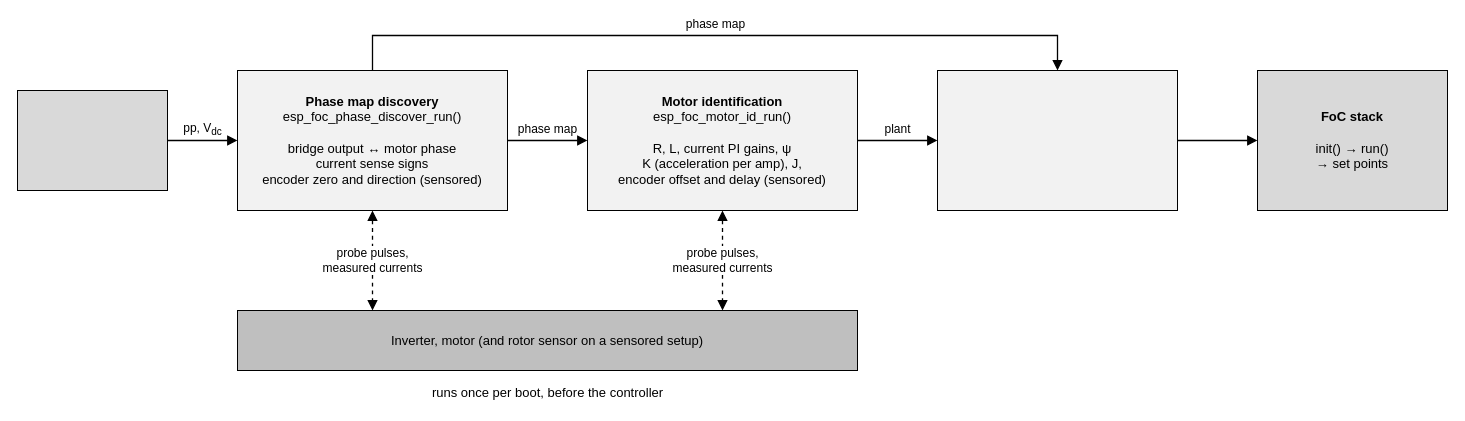
The diagram is 1465 pixels wide and 421 high, and some of its shapes have lost their labels. Here are the shapes that lost their labels. From the top down, the centre of each, then its label:
At point 92,140: "Application pole pairs DC link voltage".
At point 1057,140: "Controller config ..._config_from_phase_map() ..._config_from_motor_id()".
